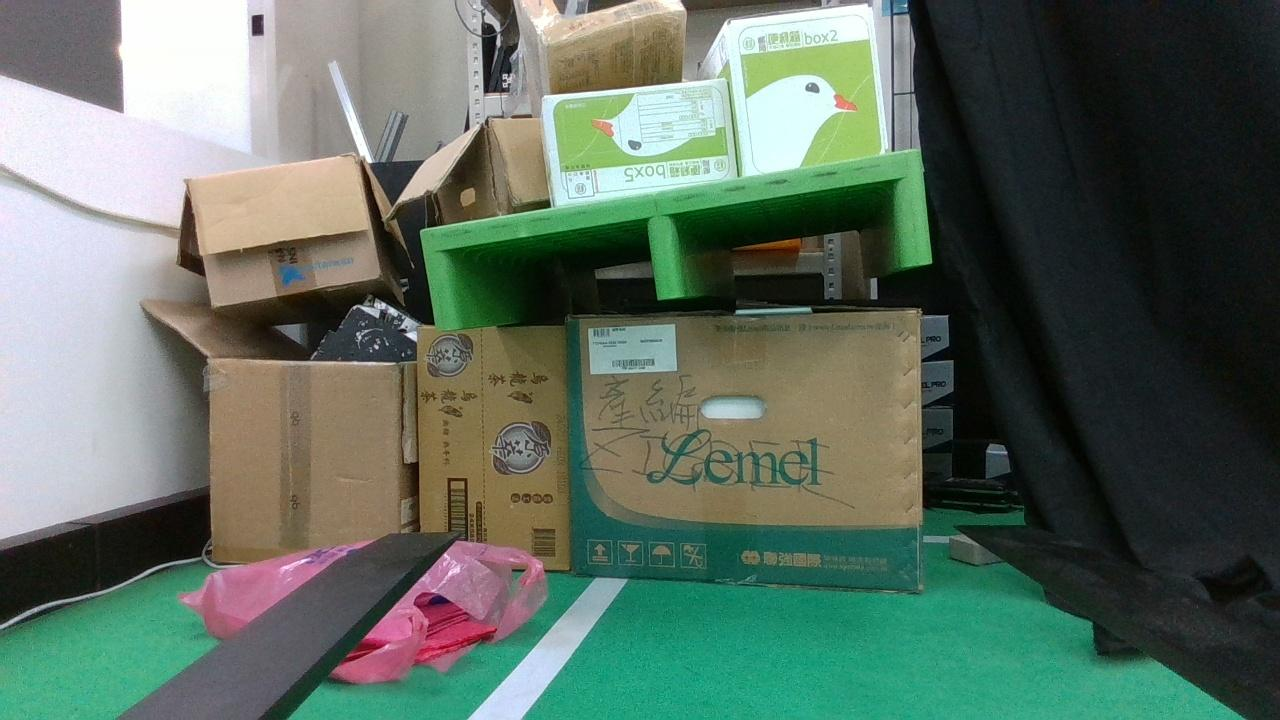Pallet: (419, 155, 930, 328)
